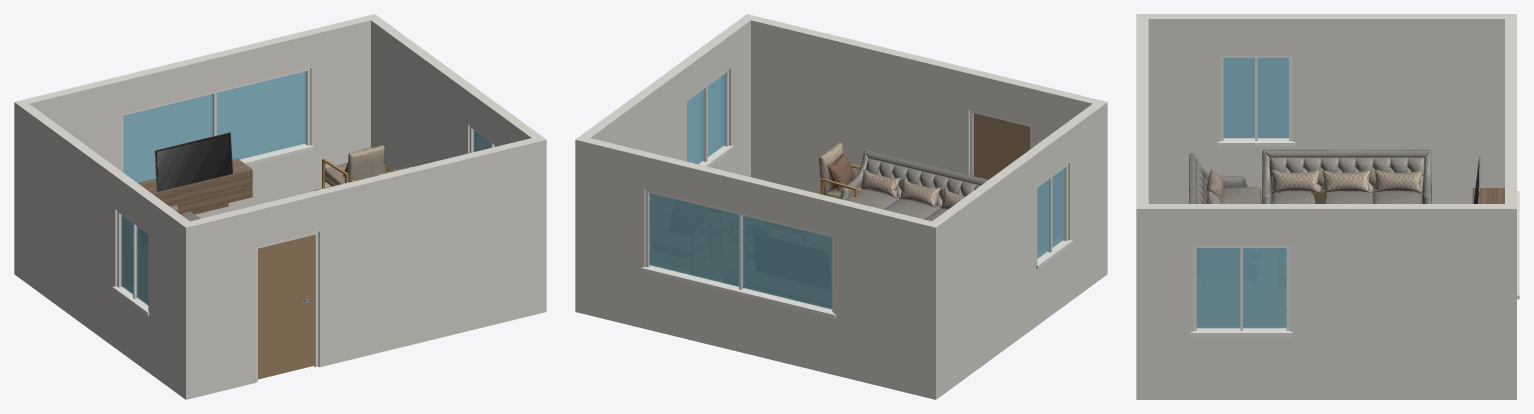
Rendered from layoutgpt.glb.
The picture shows the model from 3 angles, left to right: view 1: azimuth 30°, elevation 25°; view 2: azimuth 150°, elevation 25°; view 3: azimuth 270°, elevation 25°; orthographic projection. The views are drawn at different scales.
Visible parts, largest first — view 1: wall|scenesmith_068__R00|0, wall|scenesmith_068__R00|2, wall|scenesmith_068__R00|1, wall|scenesmith_068__R00|3, wall|scenesmith_068__R00|1 Window 0 | glazing, wall|scenesmith_068__R00|0 Door 0 | wood leaf, scenesmith_068__R00_5, raw_model.004, wall|scenesmith_068__R00|1 Window 0 | jamb, wall|scenesmith_068__R00|2 Window 0 | glazing, raw_model.005, wall|scenesmith_068__R00|2 Window 0 | jamb (+1 smaller); view 2: wall|scenesmith_068__R00|1, wall|scenesmith_068__R00|0, wall|scenesmith_068__R00|2, wall|scenesmith_068__R00|1 Window 0 | glazing, wall|scenesmith_068__R00|3, raw_model, wall|scenesmith_068__R00|1 Window 0 | jamb, wall|scenesmith_068__R00|0 Door 0 | wood leaf, wall|scenesmith_068__R00|3 Window 0 | glazing, wall|scenesmith_068__R00|2 Window 0 | glazing, raw_model.005, wall|scenesmith_068__R00|2 Window 0 | jamb (+1 smaller); view 3: wall|scenesmith_068__R00|3, wall|scenesmith_068__R00|2, raw_model, wall|scenesmith_068__R00|3 Window 0 | glazing, wall|scenesmith_068__R00|2 Window 0 | glazing, wall|scenesmith_068__R00|0, wall|scenesmith_068__R00|1, wall|scenesmith_068__R00|3 Window 0 | jamb, wall|scenesmith_068__R00|2 Window 0 | jamb, raw_model.004.
Part boxes in pixels (box(x1,y1,x2,y2)): wall|scenesmith_068__R00|0: box(180, 138, 537, 399); wall|scenesmith_068__R00|2: box(14, 99, 195, 399); wall|scenesmith_068__R00|1: box(14, 14, 379, 277); wall|scenesmith_068__R00|3: box(371, 18, 546, 313); wall|scenesmith_068__R00|1 Window 0 | glazing: box(123, 71, 306, 182); wall|scenesmith_068__R00|0 Door 0 | wood leaf: box(258, 235, 314, 379); scenesmith_068__R00_5: box(154, 132, 232, 191); raw_model.004: box(138, 159, 252, 214); wall|scenesmith_068__R00|1 Window 0 | jamb: box(121, 68, 314, 172); wall|scenesmith_068__R00|2 Window 0 | glazing: box(121, 215, 148, 305); raw_model.005: box(314, 145, 411, 190); wall|scenesmith_068__R00|2 Window 0 | jamb: box(112, 211, 149, 315); wall|scenesmith_068__R00|1: box(575, 136, 941, 399); wall|scenesmith_068__R00|0: box(751, 16, 1107, 277); wall|scenesmith_068__R00|2: box(927, 99, 1107, 395); wall|scenesmith_068__R00|1 Window 0 | glazing: box(649, 193, 832, 309); wall|scenesmith_068__R00|3: box(581, 14, 755, 176); raw_model: box(840, 150, 987, 221); wall|scenesmith_068__R00|1 Window 0 | jamb: box(641, 190, 835, 318); wall|scenesmith_068__R00|0 Door 0 | wood leaf: box(973, 113, 1030, 179); wall|scenesmith_068__R00|3 Window 0 | glazing: box(687, 74, 724, 164); wall|scenesmith_068__R00|2 Window 0 | glazing: box(1037, 168, 1064, 258); raw_model.005: box(819, 142, 863, 198); wall|scenesmith_068__R00|2 Window 0 | jamb: box(1036, 164, 1072, 268); wall|scenesmith_068__R00|3: box(1136, 204, 1504, 399); wall|scenesmith_068__R00|2: box(1136, 14, 1516, 203); raw_model: box(1189, 149, 1431, 203); wall|scenesmith_068__R00|3 Window 0 | glazing: box(1196, 248, 1286, 328); wall|scenesmith_068__R00|2 Window 0 | glazing: box(1223, 58, 1288, 138); wall|scenesmith_068__R00|0: box(1136, 19, 1148, 399); wall|scenesmith_068__R00|1: box(1505, 19, 1516, 399); wall|scenesmith_068__R00|3 Window 0 | jamb: box(1190, 245, 1292, 336); wall|scenesmith_068__R00|2 Window 0 | jamb: box(1217, 56, 1295, 146); raw_model.004: box(1472, 188, 1504, 203).
Bounding box in the file's own units: 5.76 × 2.61 × 4.73.
12 materials, 6 textured.
